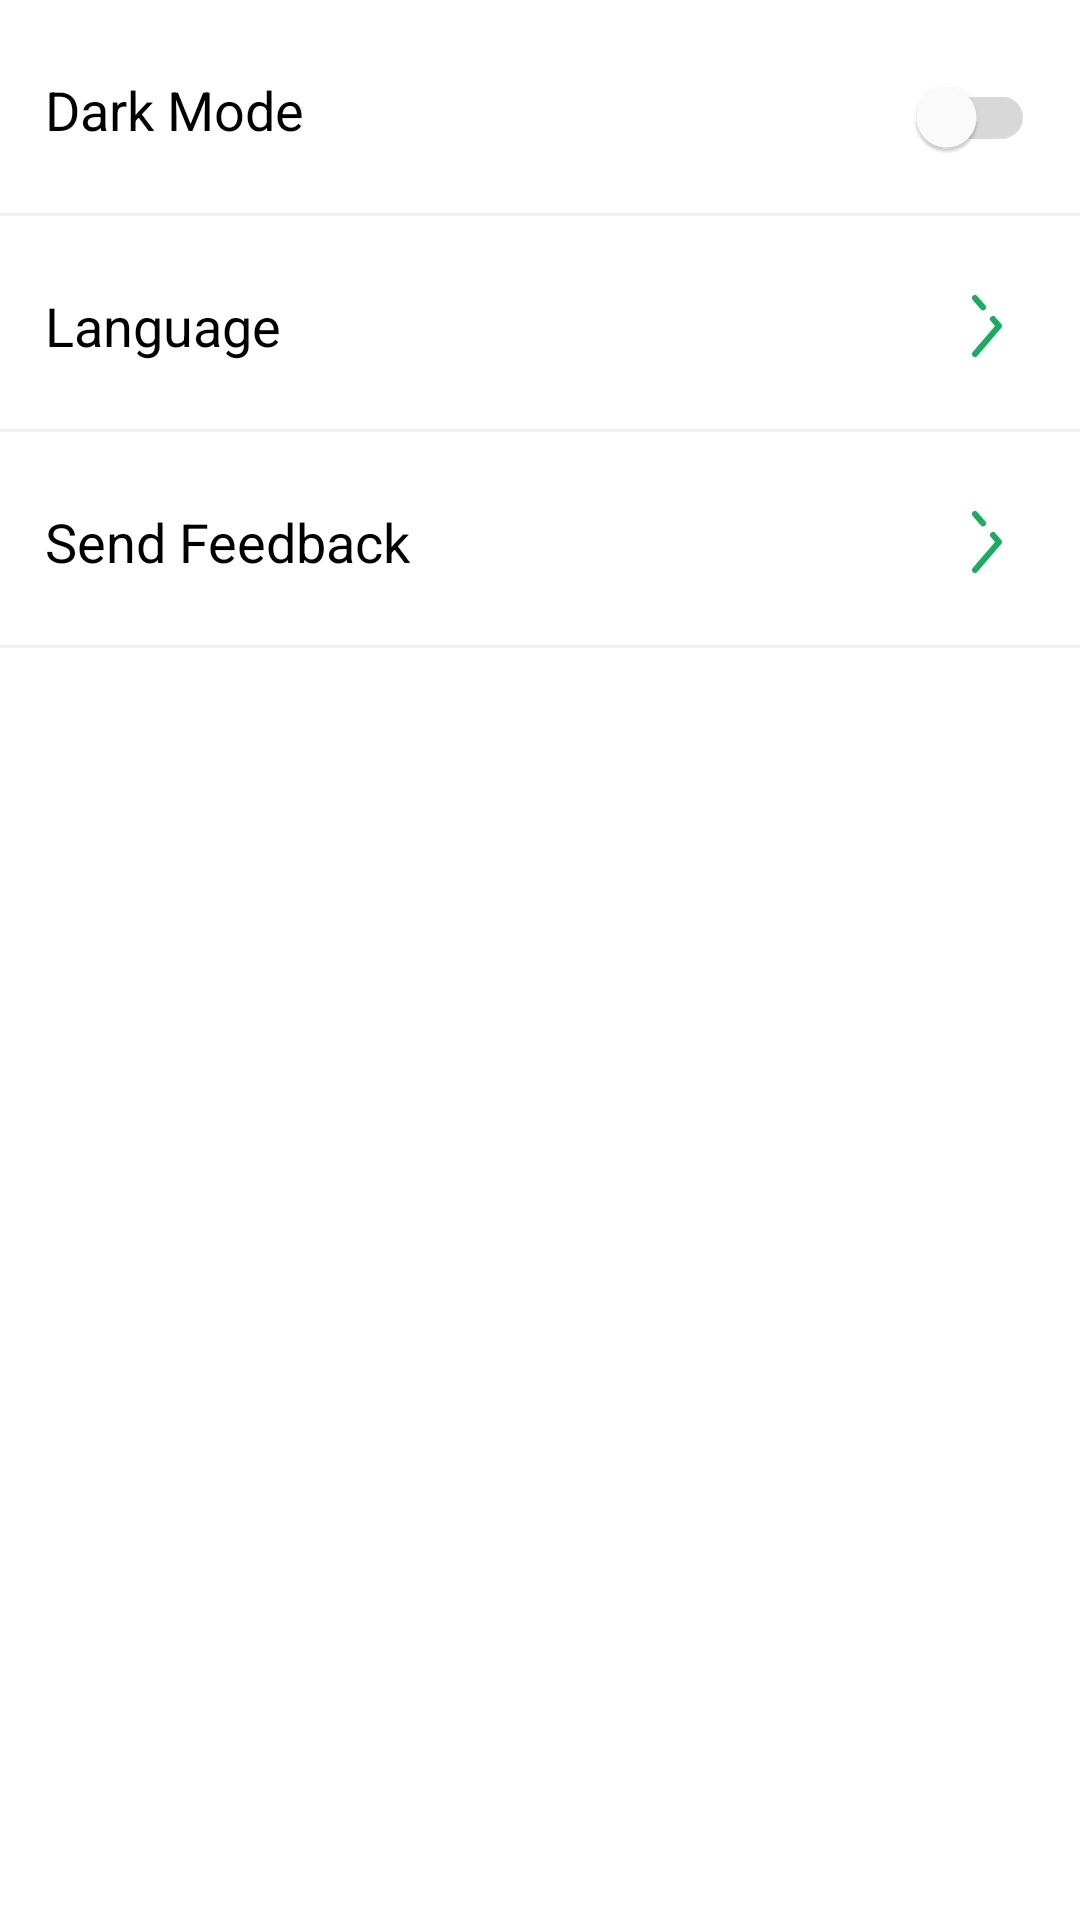

Screen size 1080x1920. Icon name, then its center in pixels as point (x, y):
arrow right: point (986, 326), point (986, 542)
